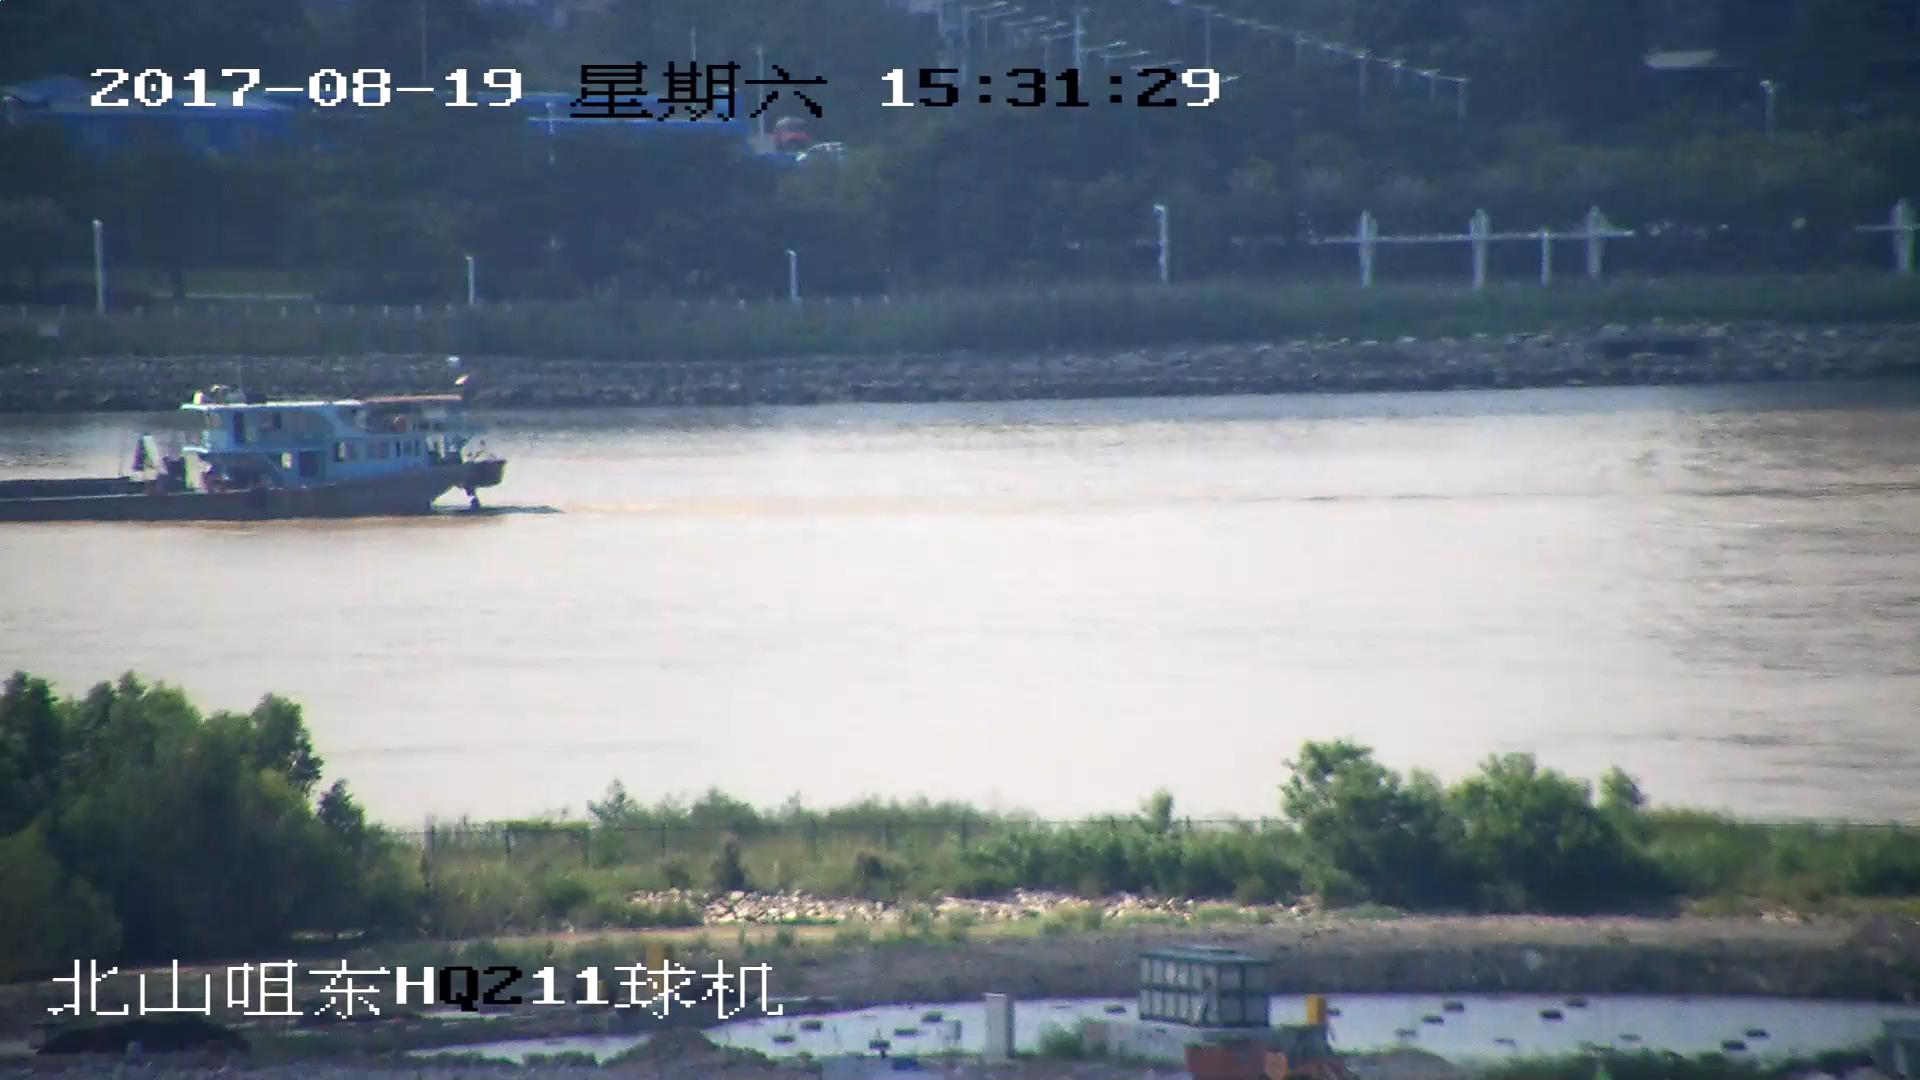ore carrier: (1, 381, 506, 523)
